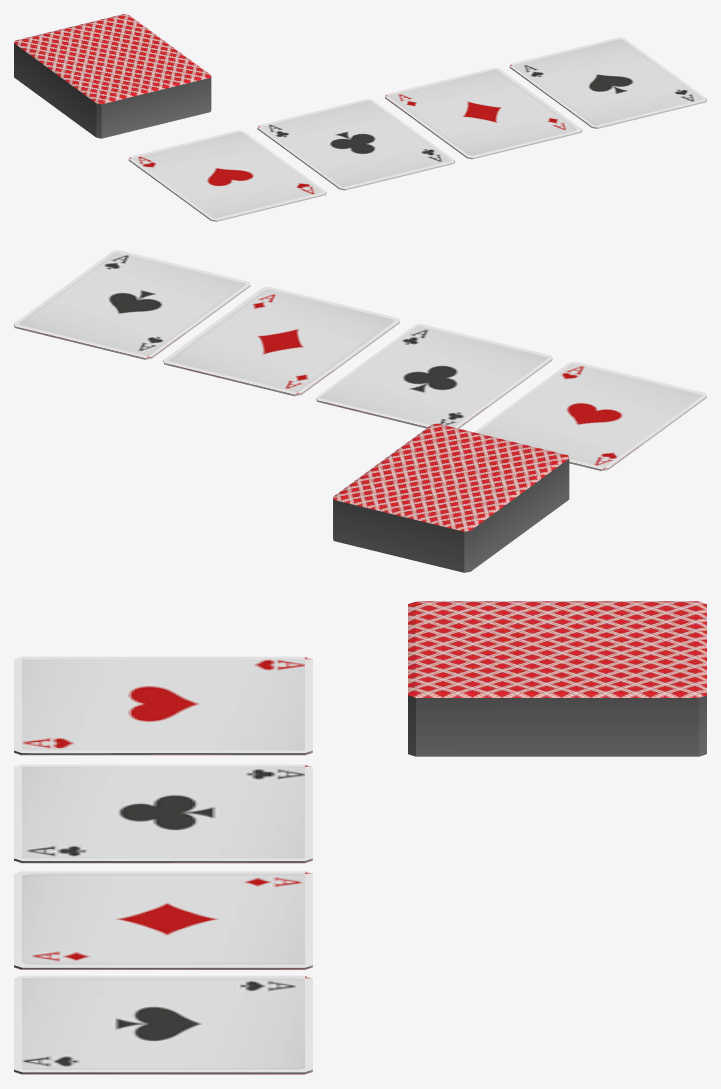
File: deck.fbx
3 renders of one model, top to bottom at view 1: azimuth 30°, elevation 25°; view 2: azimuth 150°, elevation 25°; view 3: azimuth 270°, elevation 25°, orthographic. The views are drawn at different scales.
Parts seen in each view (by area): view 1: Cube.004, Cube.002, Cube.003, Cube, Cube.001; view 2: Cube.004, Cube, Cube.001, Cube.002, Cube.003; view 3: Cube.004, Cube.002, Cube.003, Cube, Cube.001.
Part boxes in pixels (x1,y1,x2,y2): Cube.004: [14, 14, 211, 138]; Cube.002: [257, 99, 454, 190]; Cube.003: [128, 130, 326, 221]; Cube: [509, 37, 706, 128]; Cube.001: [385, 68, 582, 159]; Cube.004: [333, 423, 569, 572]; Cube: [14, 250, 250, 359]; Cube.001: [163, 286, 399, 396]; Cube.002: [316, 324, 552, 428]; Cube.003: [474, 361, 706, 471]; Cube.004: [408, 601, 706, 756]; Cube.002: [14, 764, 312, 863]; Cube.003: [14, 656, 312, 755]; Cube: [14, 975, 312, 1074]; Cube.001: [14, 871, 312, 969].
Size of the model in its own units: 1984 by 139 by 1398.
2 materials, 2 textured.
